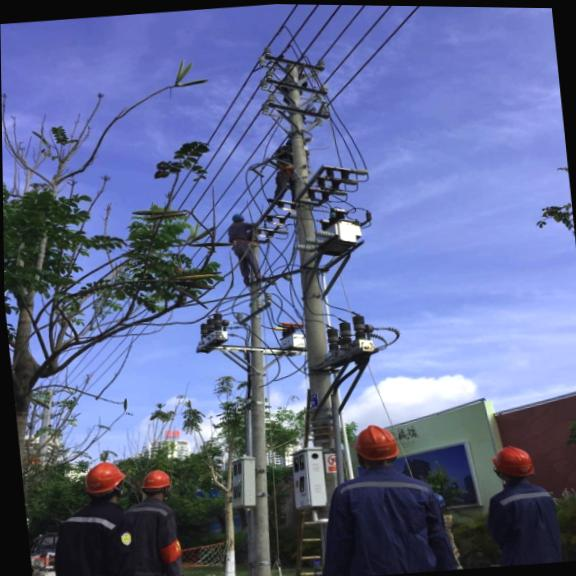no_safety_vest: (321, 462, 455, 576), (478, 480, 574, 569), (47, 507, 146, 576)
